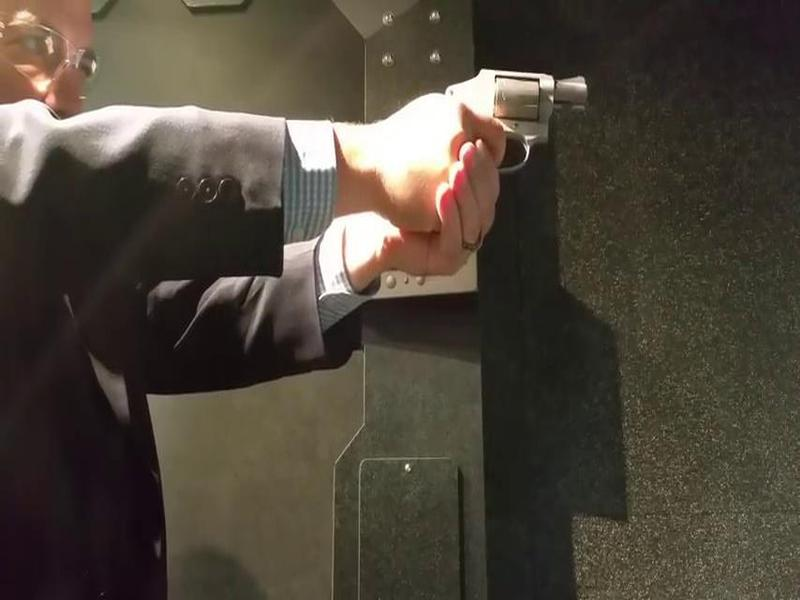Revolver: (404, 56, 599, 199)
